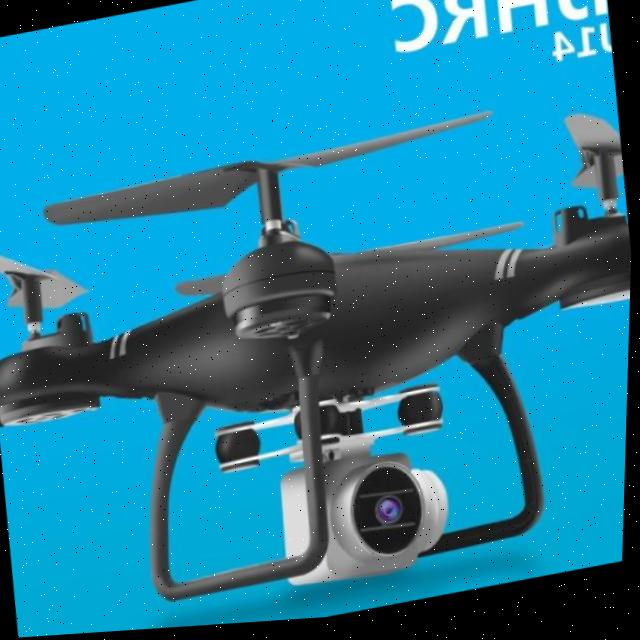drones: (0, 71, 638, 640)
